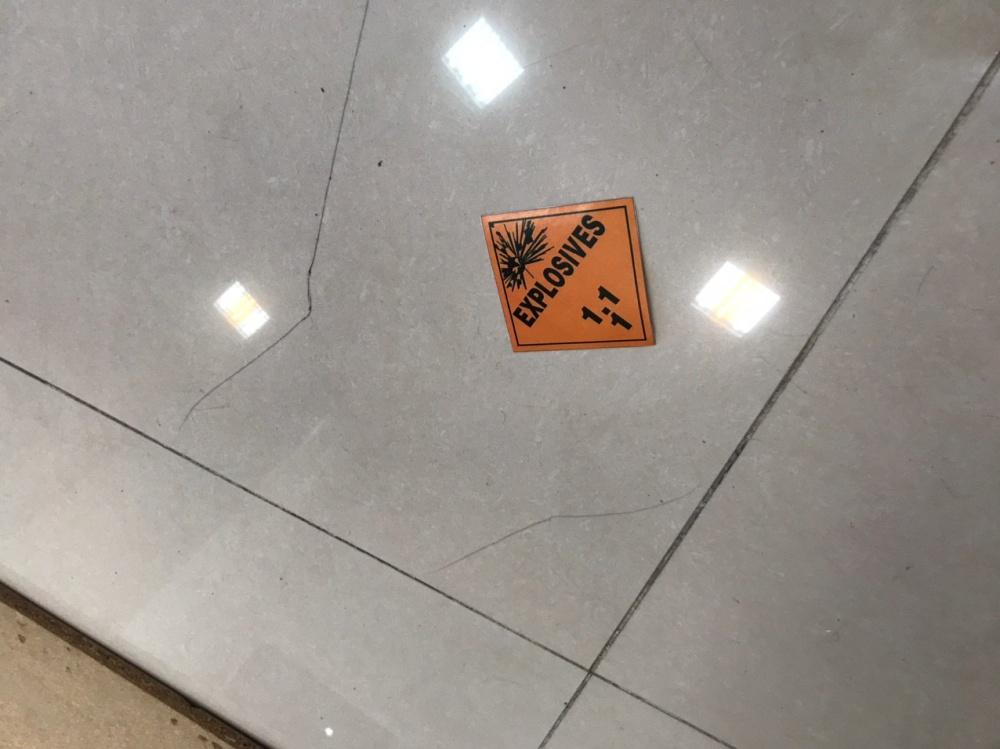explosive: (482, 196, 657, 353)
